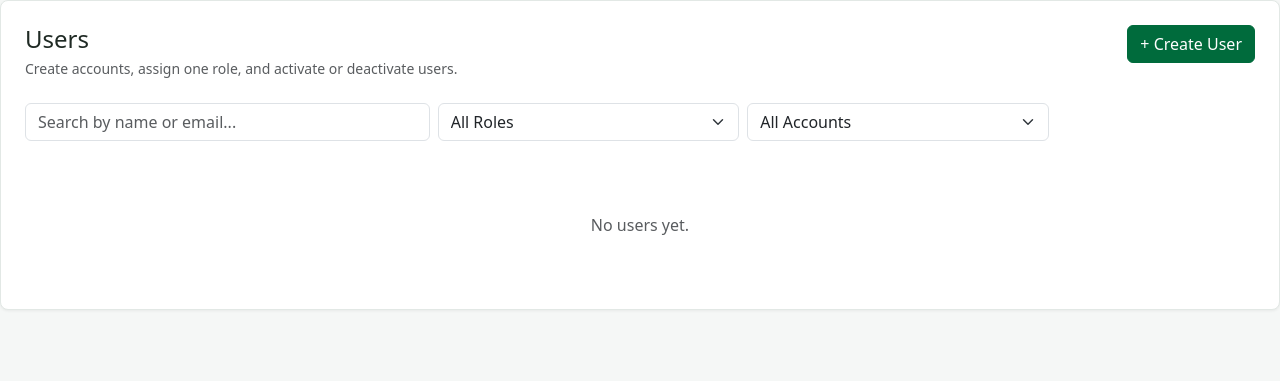
Test case: UserManagement (UI-05) › distinguishes "no users" from "no matches for this search"
Expected: the text "No users yet." is shown, x1=591 y1=214 x2=689 y2=236
Type "zzz" into the search field with placeholder "Search by name or email..." at (227, 122), box x1=25 y1=103 x2=430 y2=141
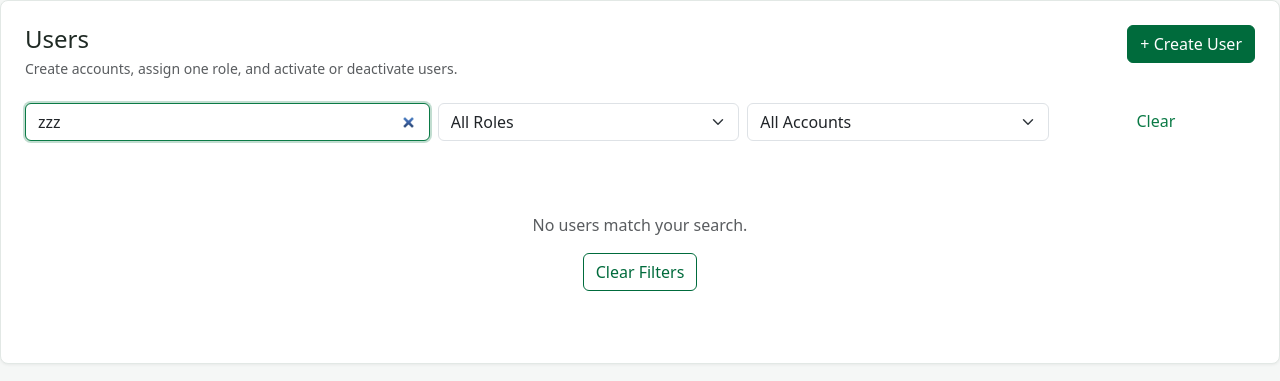
Expected: the text "No users match your search." is shown, x1=533 y1=214 x2=747 y2=236
Expected: the text "No users yet" is gone
